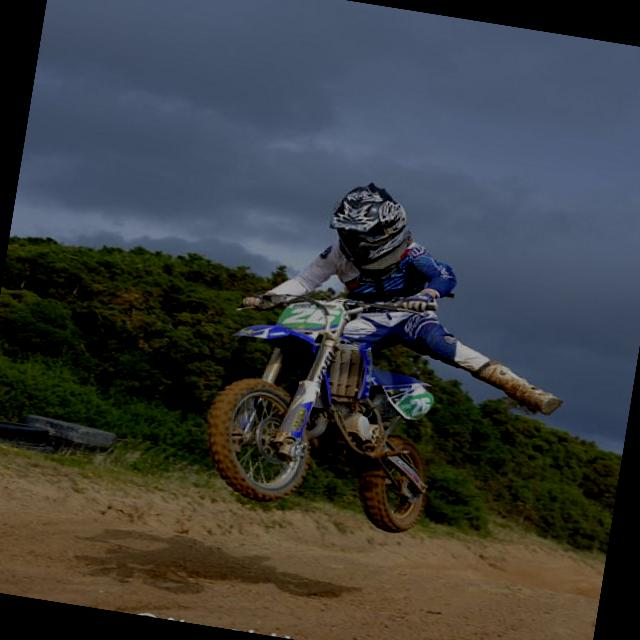Vehicle: (191, 271, 468, 534)
